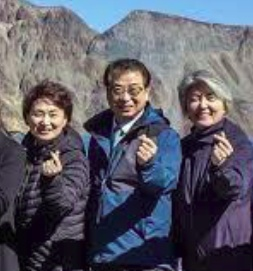oneheart: (206, 131, 237, 163), (129, 133, 161, 161), (39, 149, 67, 176)
